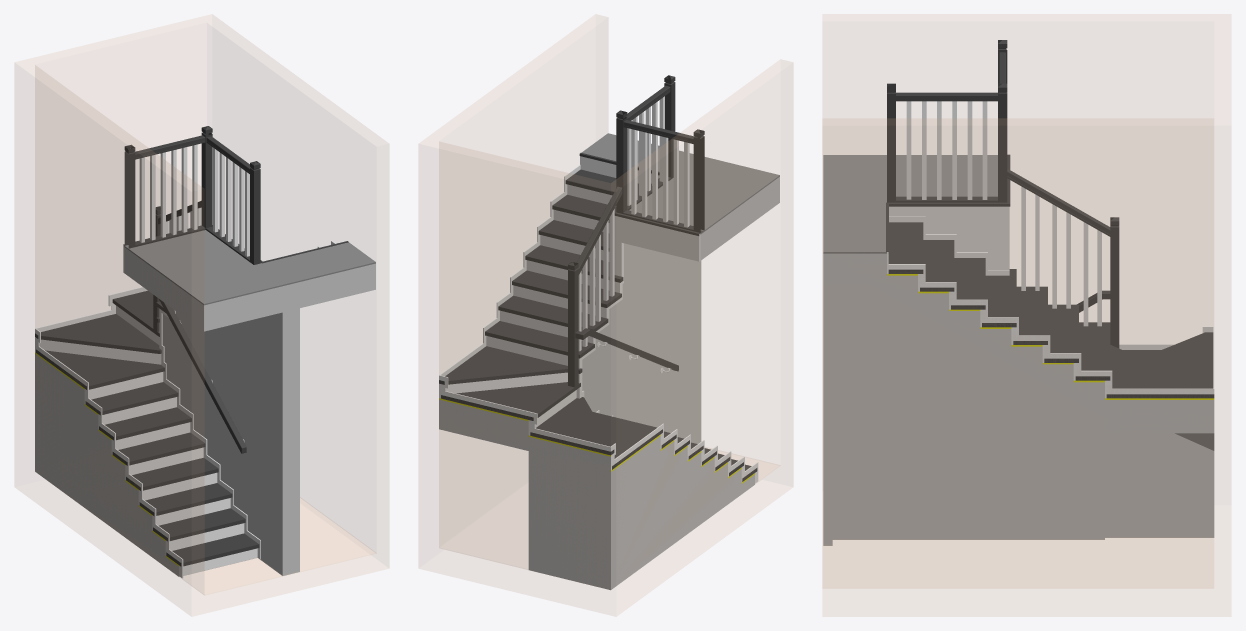
File: устрйство лестницы на бетонном основании.obj
3 renders of one model, left to right at view 1: azimuth 30°, elevation 25°; view 2: azimuth 150°, elevation 25°; view 3: azimuth 270°, elevation 25°, orthographic. The views are drawn at different scales.
Size of the model in its own units: 2.29 by 4.7 by 3.55.
